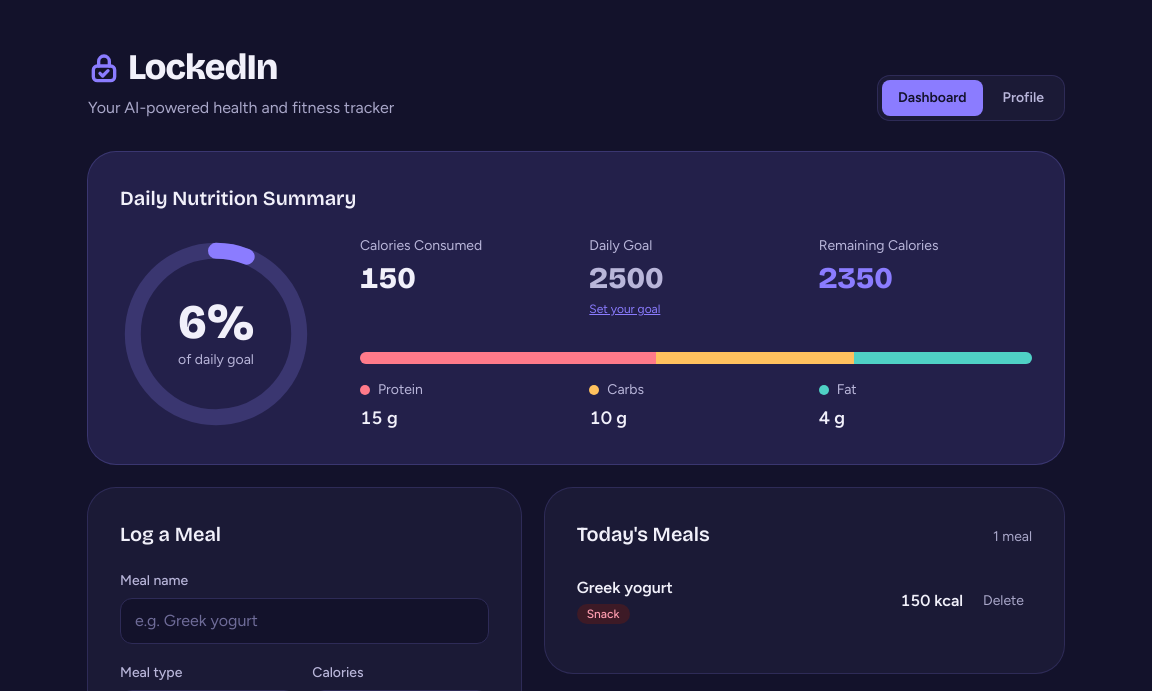
Test: dashboard connected to the API › deletes a meal through the API
The image size is (1152, 691).
Expected: the heading "Greek yogurt" is shown, top-left (577, 576), bottom-right (673, 600)
What coordinates should you click on to do the following:
click the button with aria-label "Delete Greek yogurt"
I would click on:
 (1004, 600)
Its box is top-left (975, 586), bottom-right (1032, 614).
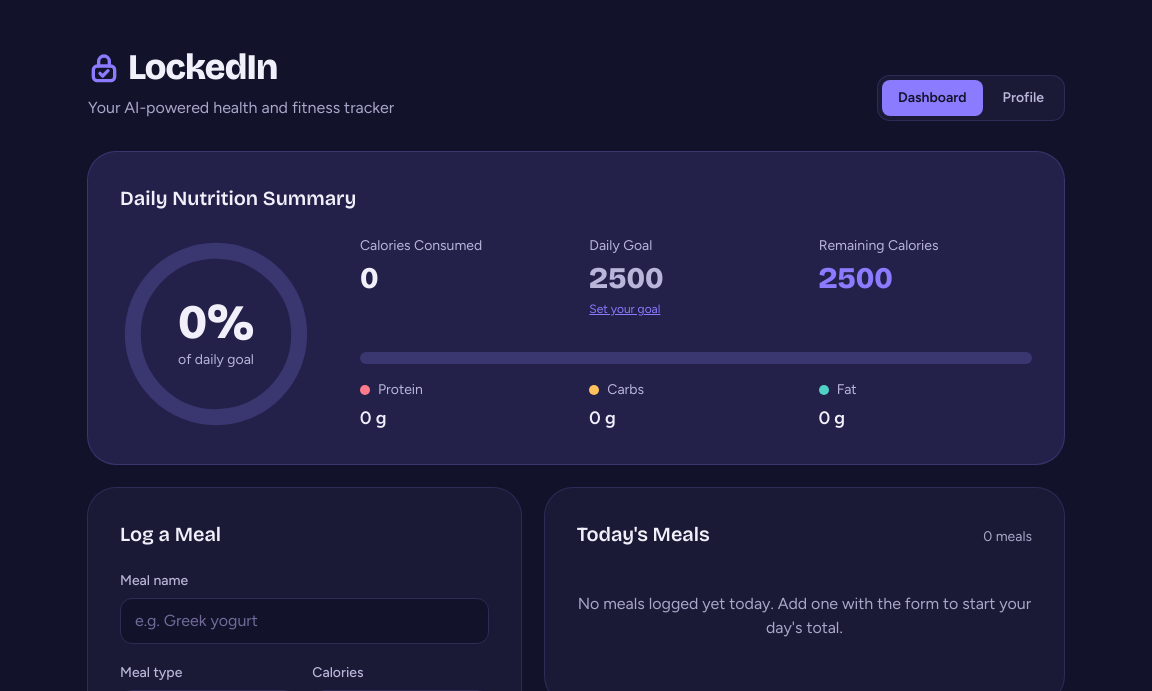
Now the text with test id "meal-list-empty" is shown, box top-left (578, 594), bottom-right (1031, 637)
